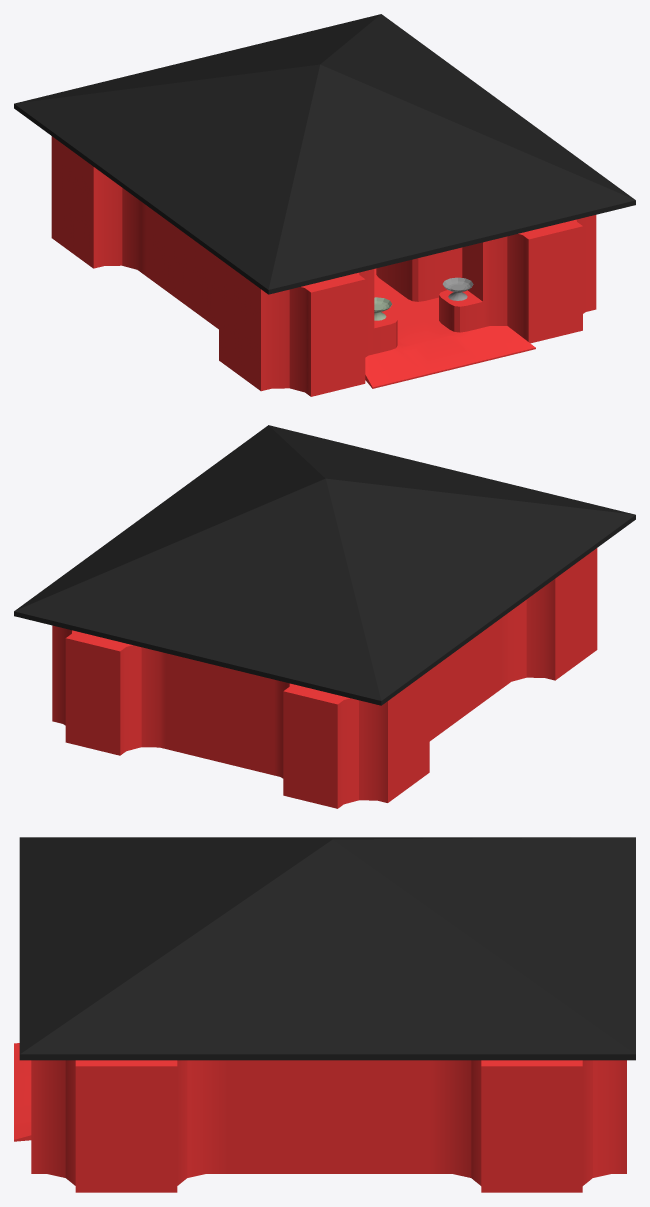
File: temple2017.FBX
3 views of the same model, one above another, from view 1: azimuth 30°, elevation 25°; view 2: azimuth 150°, elevation 25°; view 3: azimuth 270°, elevation 25° (orthographic). The views are drawn at different scales.
Parts seen in each view (by area): view 1: Roof, House; view 2: Roof, House; view 3: Roof, House.
Boxes of the visible parts, box(x1,y1,x2,y2) form: Roof: box(14, 14, 635, 294); House: box(51, 136, 596, 396); Roof: box(14, 425, 635, 705); House: box(52, 548, 597, 808); Roof: box(19, 837, 635, 1060); House: box(14, 1043, 626, 1192).
Size of the model in its own units: 8.11 by 4.4 by 9.82.
